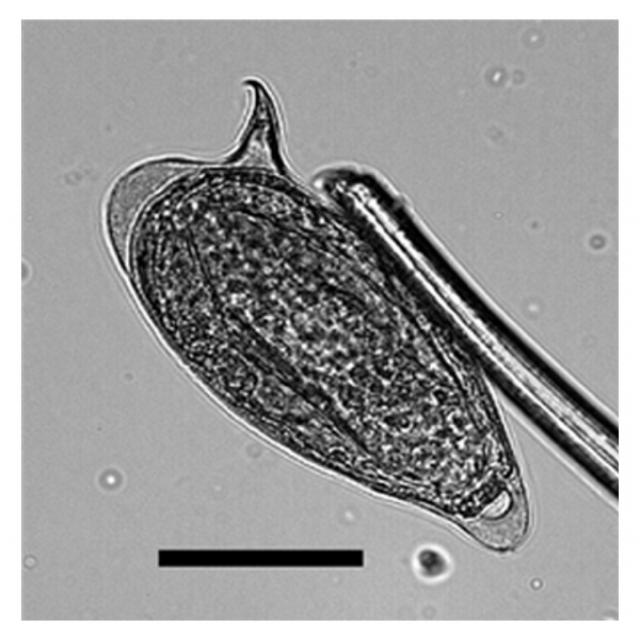Schistosoma: (87, 69, 543, 558)
